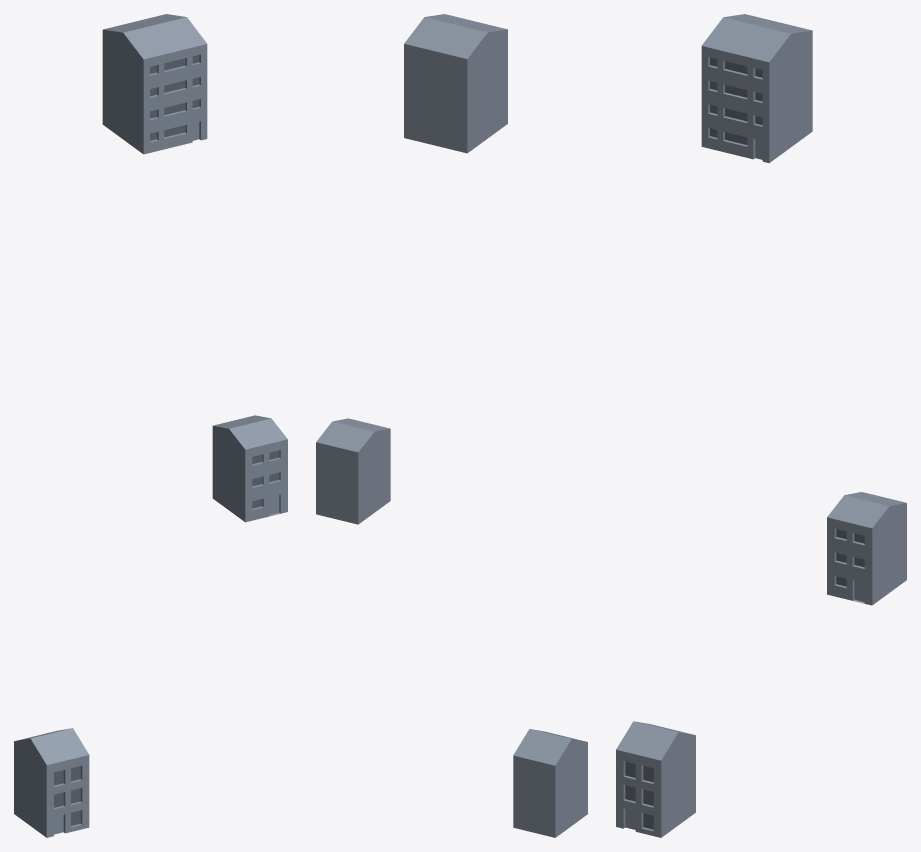
The model's file is Penceregrup1.gltf.
3 renders of one model, left to right at view 1: azimuth 30°, elevation 25°; view 2: azimuth 150°, elevation 25°; view 3: azimuth 330°, elevation 25°, orthographic. The views are drawn at different scales.
Parts seen in each view (by area): view 1: Building_071.003, Building_081.003, Building_069.003, Building_071.005, Building_069.005; view 2: Building_071.003, Building_069.003, Building_081.003; view 3: Building_071.003, Building_081.003, Building_069.003, Building_071.005, Building_069.005.
Part boxes in pixels (x1,y1,x2,y2): Building_071.003: (102, 14, 207, 154); Building_081.003: (212, 415, 287, 522); Building_069.003: (14, 728, 89, 837); Building_071.005: (150, 55, 199, 140); Building_069.005: (54, 766, 80, 825); Building_071.003: (404, 14, 507, 153); Building_069.003: (513, 729, 587, 837); Building_081.003: (316, 418, 390, 524); Building_071.003: (701, 14, 812, 162); Building_081.003: (827, 492, 906, 605); Building_069.003: (616, 721, 695, 837); Building_071.005: (710, 57, 762, 144); Building_069.005: (625, 761, 653, 829).
Bounding box in the file's own units: 0.1848 × 0.5674 × 0.0543.
